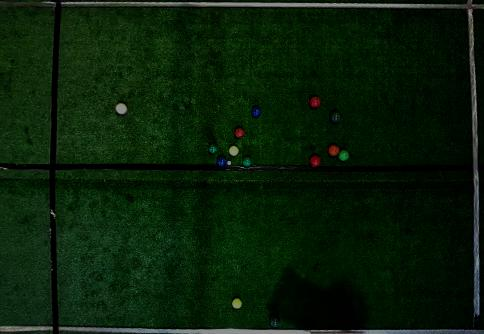blue: (251, 106, 262, 118), (217, 156, 227, 168)
green: (338, 149, 350, 162), (329, 111, 341, 124), (269, 315, 280, 327), (207, 144, 218, 155), (242, 155, 252, 167)
red: (309, 155, 322, 168), (115, 102, 128, 115), (328, 143, 340, 157), (309, 95, 321, 109), (234, 126, 245, 138)
vline: (1, 0, 61, 333), (466, 0, 483, 334)
white: (227, 161, 231, 165)
yellow: (231, 298, 242, 309), (229, 146, 239, 156)
